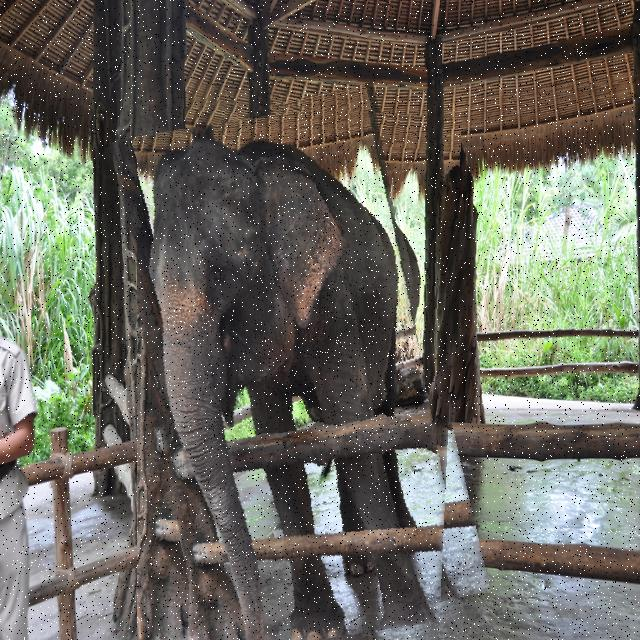elephant: (137, 94, 462, 640)
